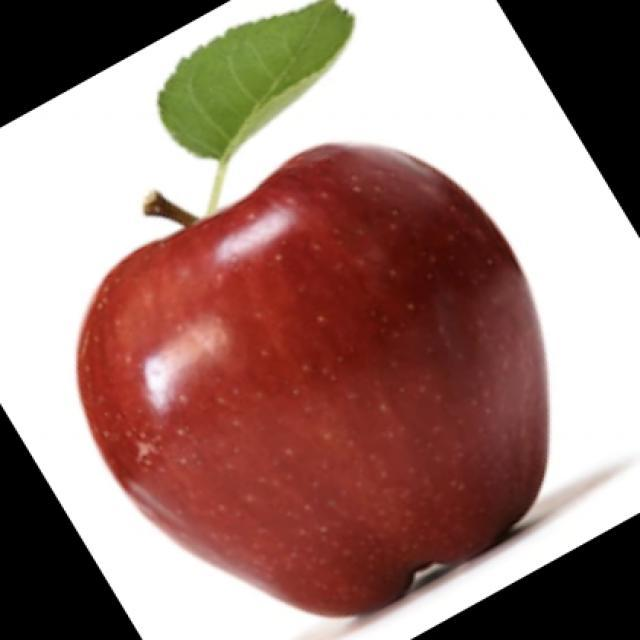Fresh Apple: (64, 135, 550, 622)
